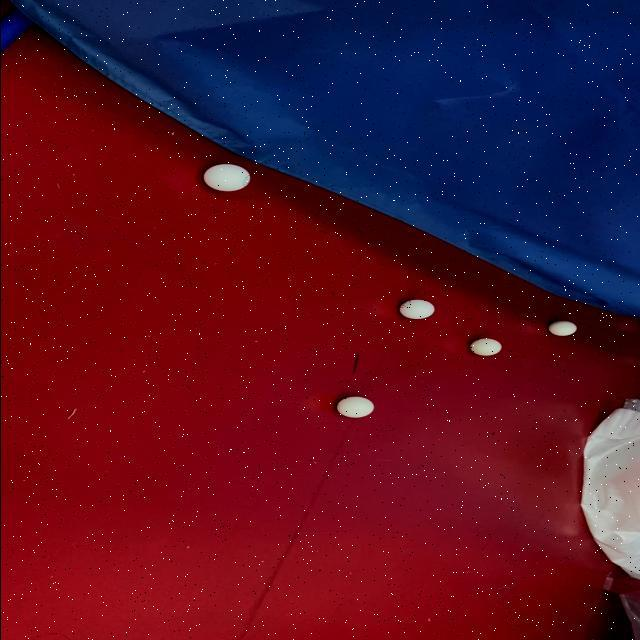ping-pong-ball: (200, 162, 252, 192), (396, 298, 436, 320), (334, 396, 374, 418), (467, 337, 503, 357), (546, 320, 578, 338)
